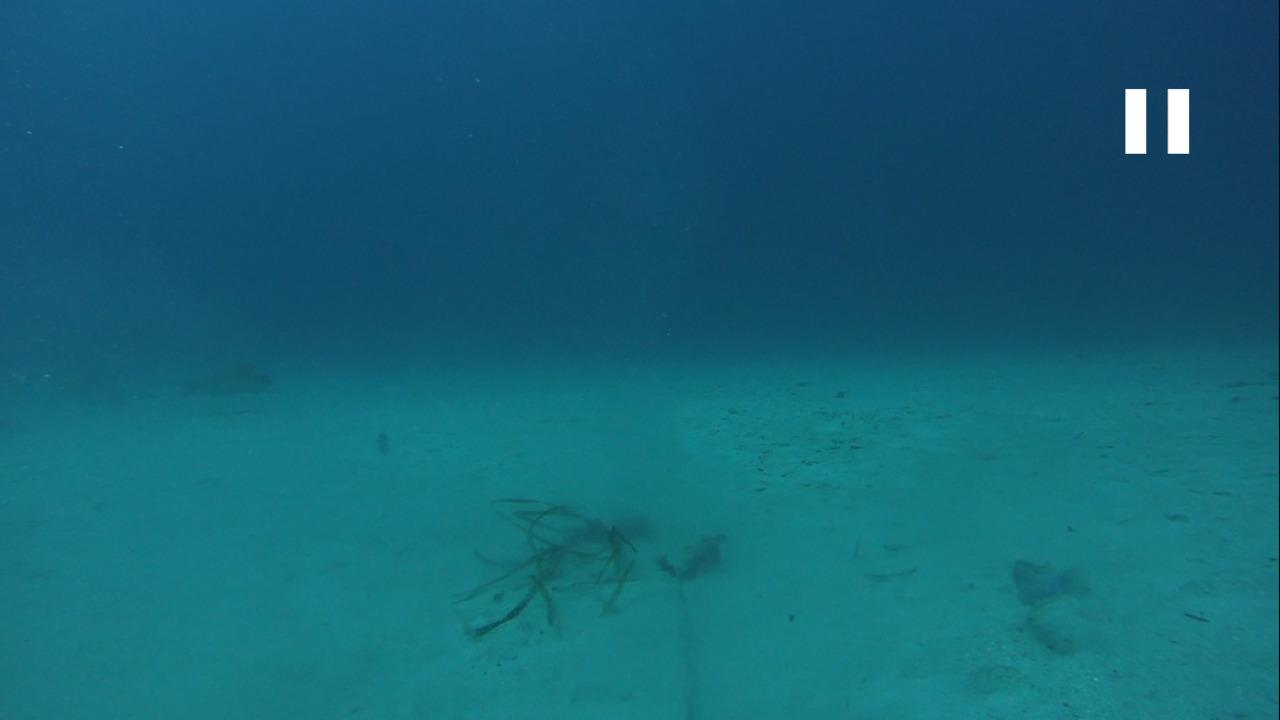myliobatis: (116, 350, 281, 407)
raor: (1003, 548, 1103, 611)
